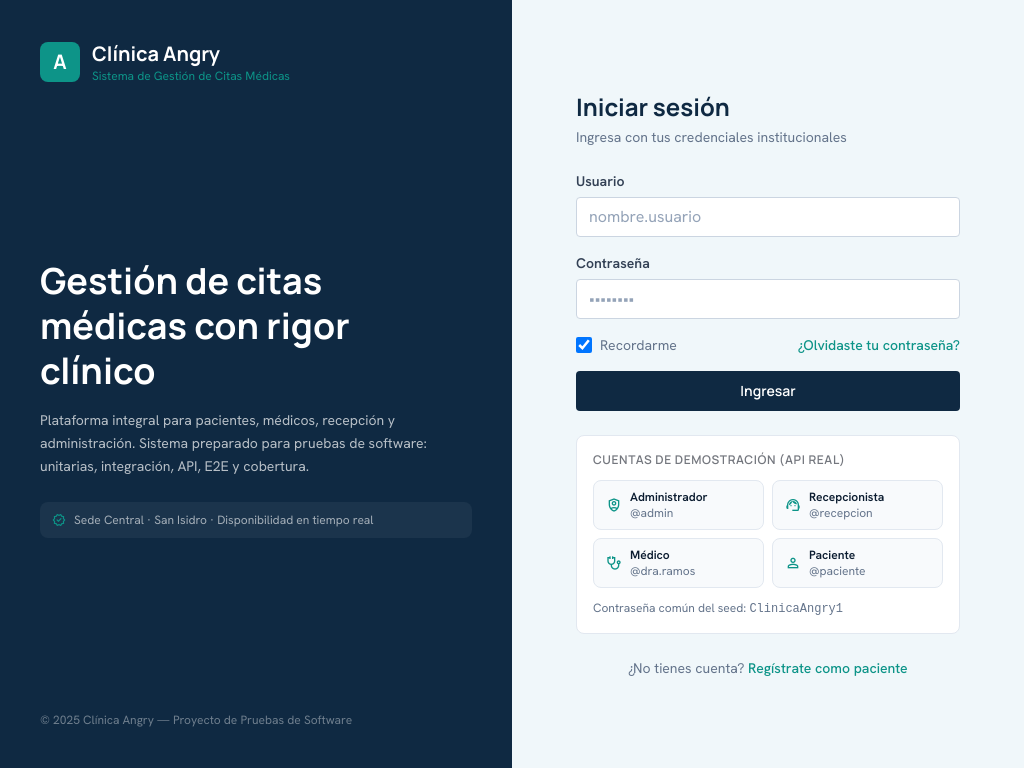
Test case: LoginPage › exige usuario y contraseña
In the password field labelled "Contraseña": (768, 298) x1=576 y1=278 x2=960 y2=318, type "123"
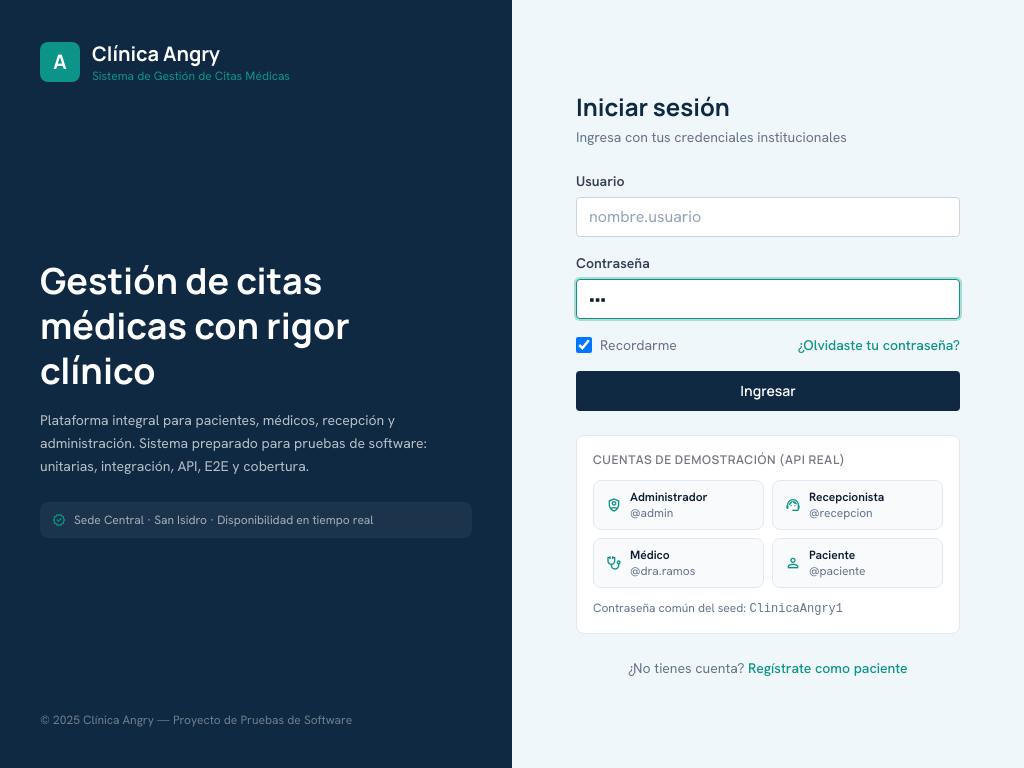
Click the button "Ingresar": (768, 390) x1=576 y1=370 x2=960 y2=410
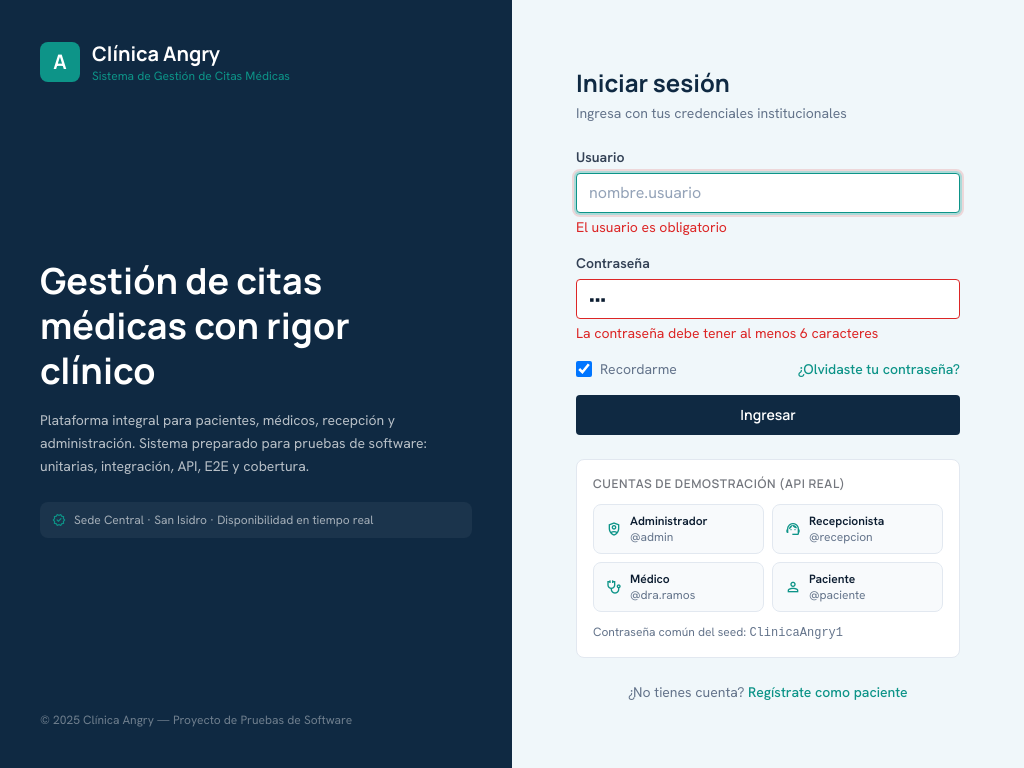
Expected: the text "El usuario es obligatorio" is shown, x1=576 y1=218 x2=727 y2=236
Expected: the text "La contraseña debe tener al menos 6 caracteres" is shown, x1=576 y1=324 x2=878 y2=342
